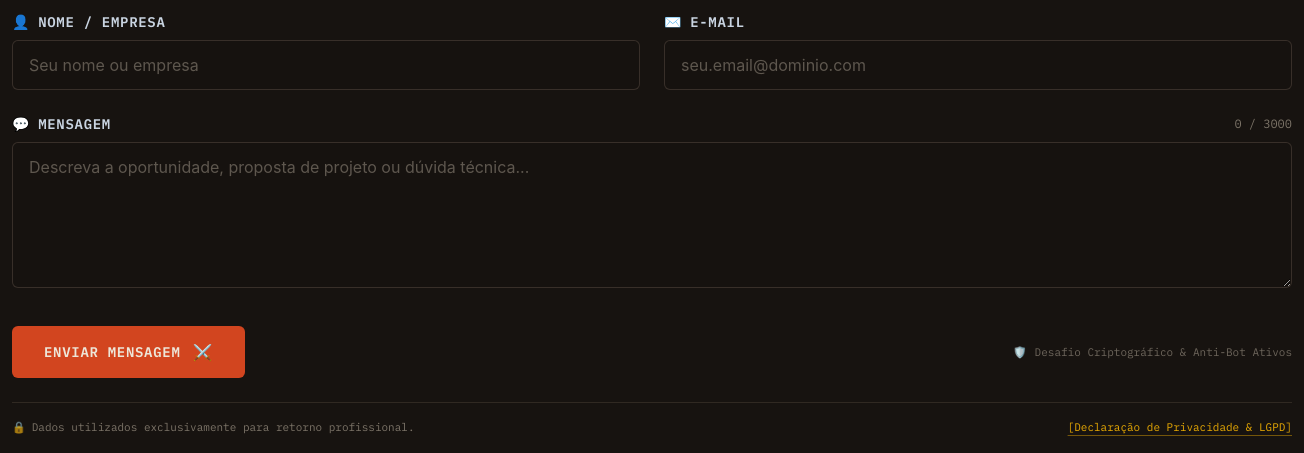
ContactForm › envia os dados limpos (trimmed) e exibe o estado de sucesso
Type "  Geralt de Rívia  " into the field labelled "👤 Nome / Empresa" at (326, 65), box [12, 40, 640, 90]
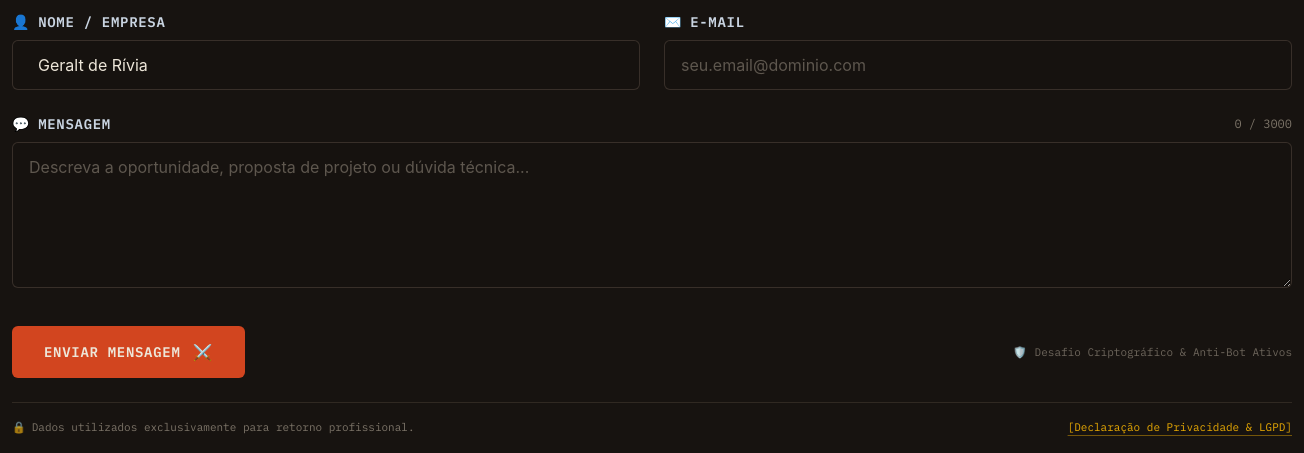
Type "geralt@kaermorhen.com" into the field labelled "✉️ E-mail" at (978, 65), box [664, 40, 1292, 90]
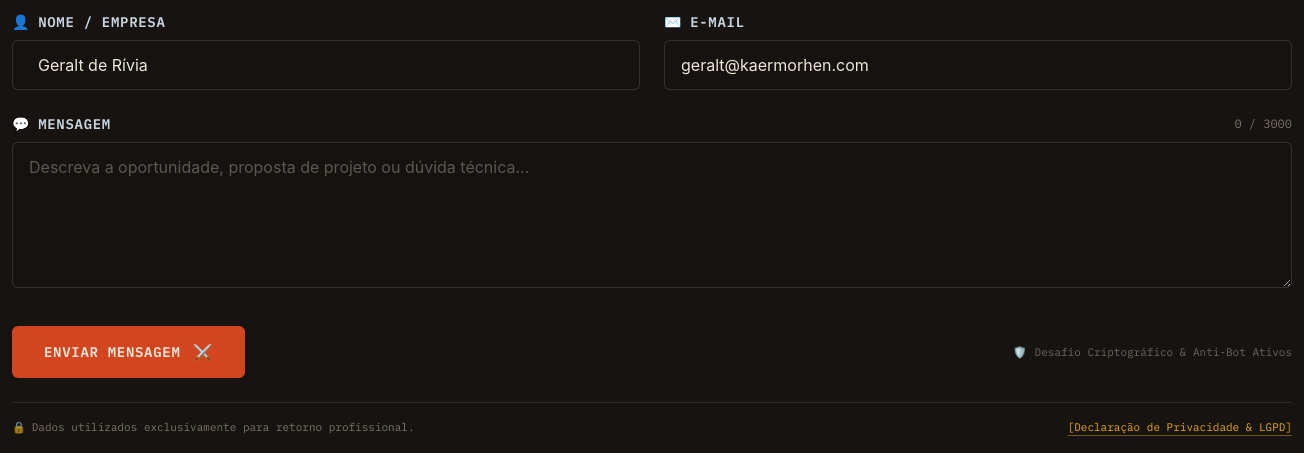
Replace the text in the text box labelled "💬 Mensagem" with "Preciso de um contrato de caça." at (652, 215), box [12, 142, 1292, 288]
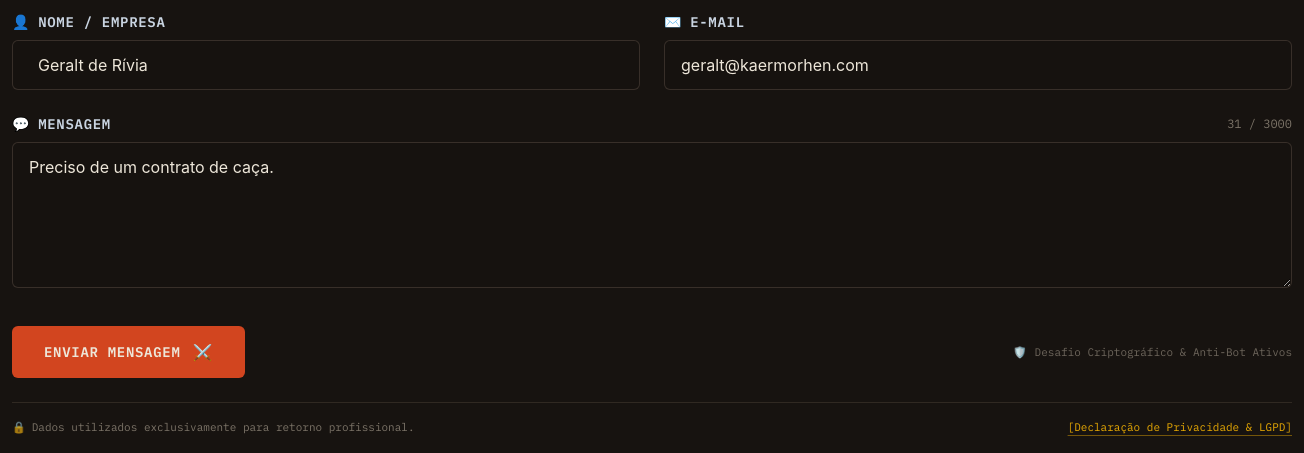
Click the button "Enviar Mensagem ⚔️" at (129, 352), box [12, 326, 245, 378]
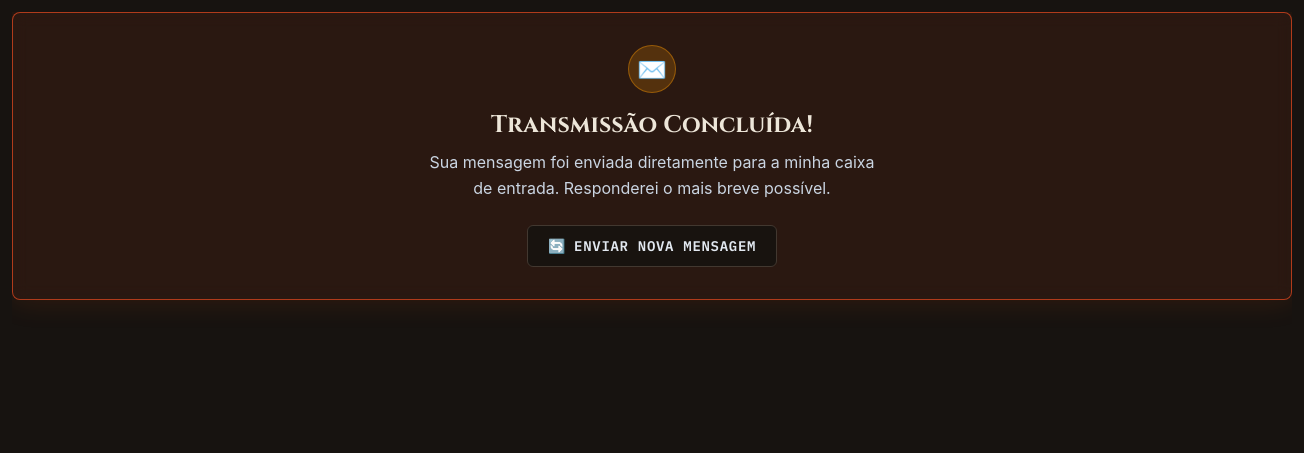
Result: the heading "Transmissão Concluída!" is shown at [491, 109, 813, 141]
